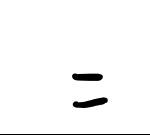eqv: (69, 70, 109, 109)
